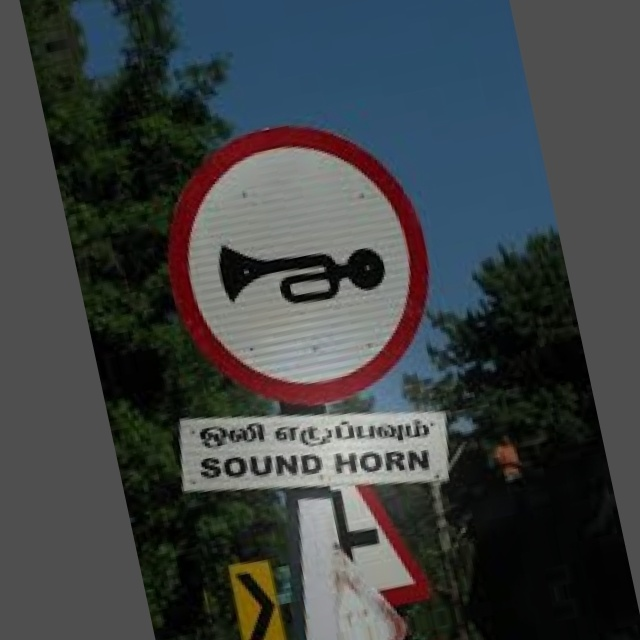Compulsory_Sound_Horn: (148, 102, 451, 419)
